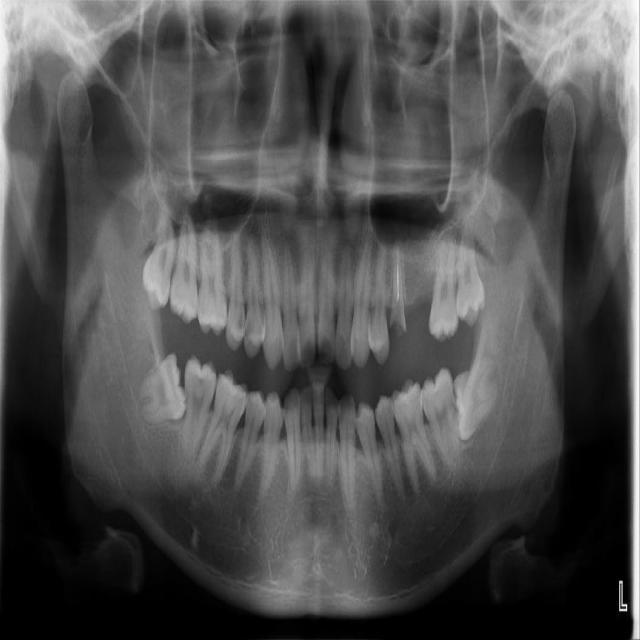3M ESPE Implant: (137, 193, 184, 312)
73: (391, 241, 404, 307), (586, 556, 592, 576)
BioHorizons Implant: (427, 222, 467, 346)
BioLife Implant: (454, 204, 486, 328)
Biomet 3i Implant: (448, 354, 503, 442)
Blue Sky Bio Implant: (415, 364, 466, 476)
Caries: (166, 193, 200, 325)
Implant: (180, 355, 218, 461)
Keystone Dental Implant: (127, 349, 192, 429)
